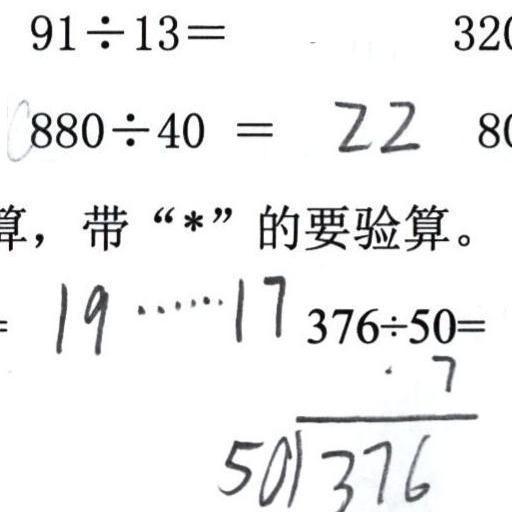ans: (46, 267, 287, 355), (328, 89, 420, 156)
